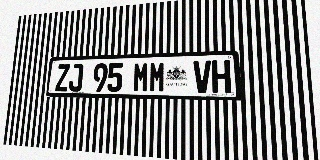5: (107, 63, 123, 92)
9: (92, 63, 108, 92)
H: (212, 60, 231, 93)
J: (68, 64, 83, 92)
M: (149, 61, 166, 92), (133, 62, 149, 92)
V: (193, 60, 212, 93)
Z: (55, 64, 70, 91)
